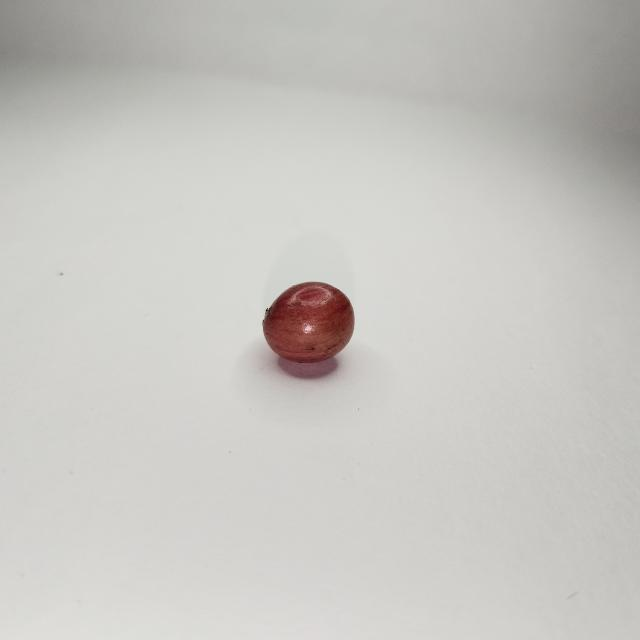Sano: (263, 282, 354, 365)
